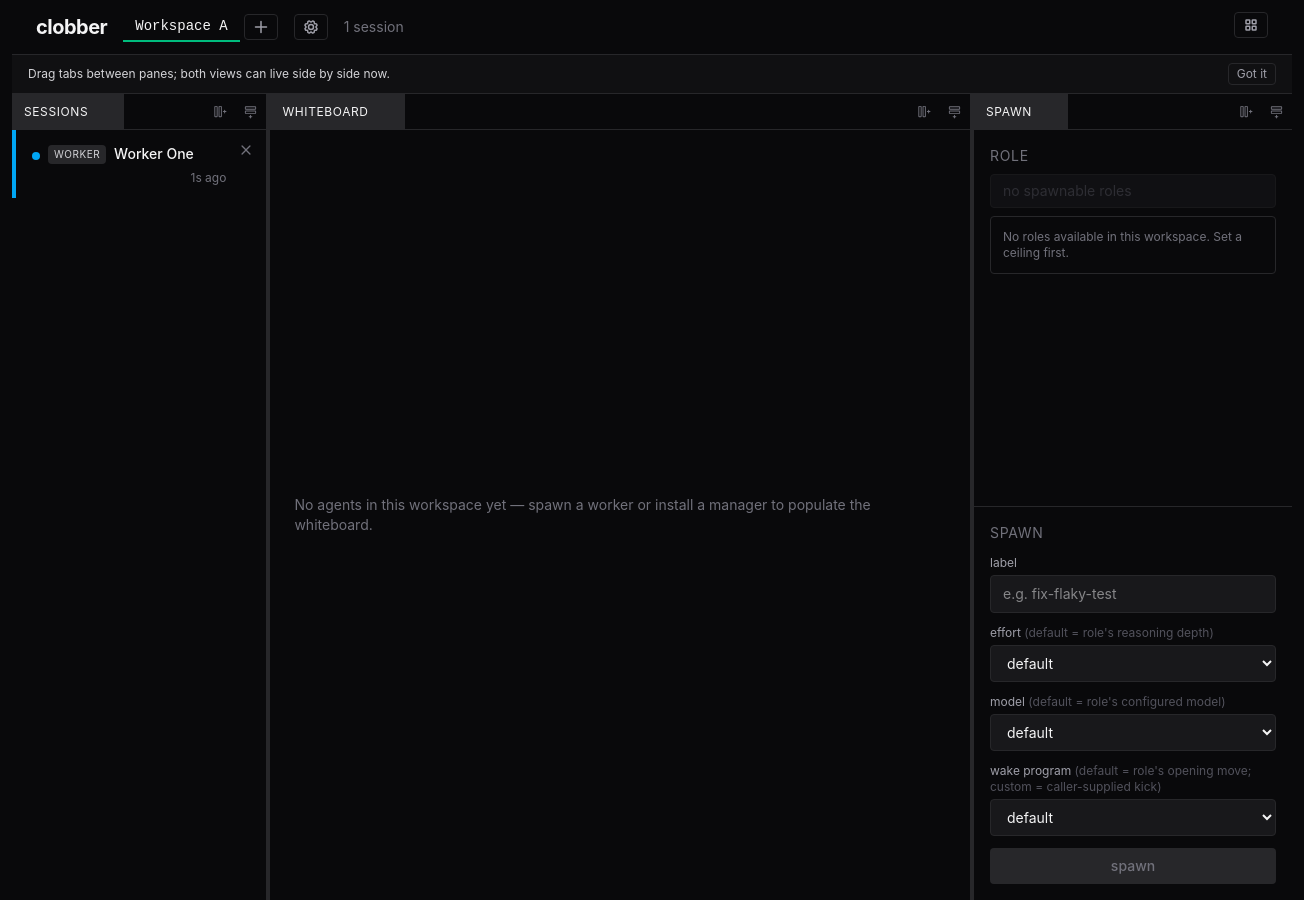
insert-mode drop flow (#316) › right-click a session row opens a menu with 'Open in pane…' (and not the old 'Pin mailbox' label)
The image size is (1304, 900).
Right-click the list item "worker Worker One 1s ago" at coordinates (139, 164), box top-left (12, 130), bottom-right (266, 198)
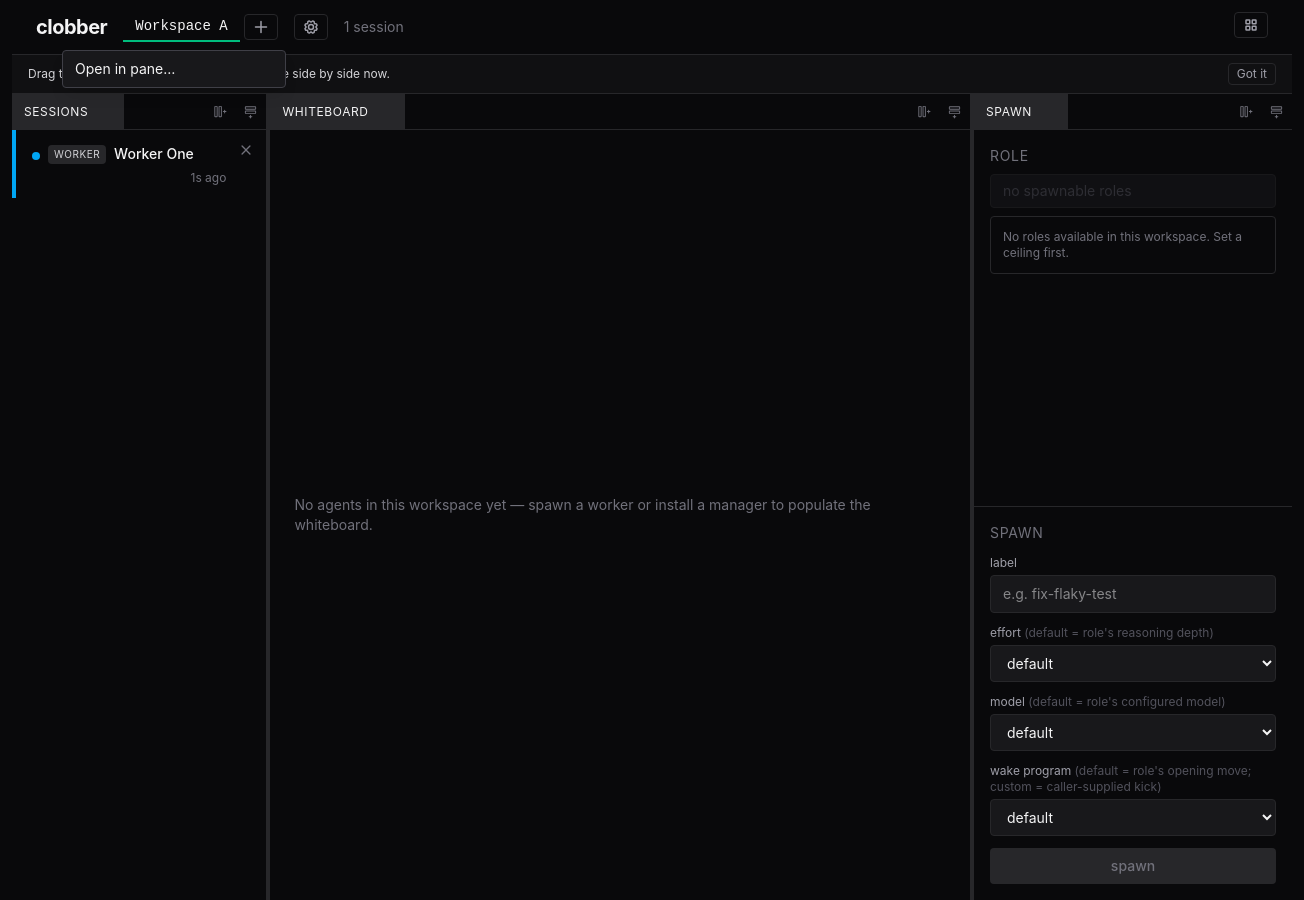
Expected: the menu item "Open in pane…" is shown, top-left (63, 51), bottom-right (285, 87)
